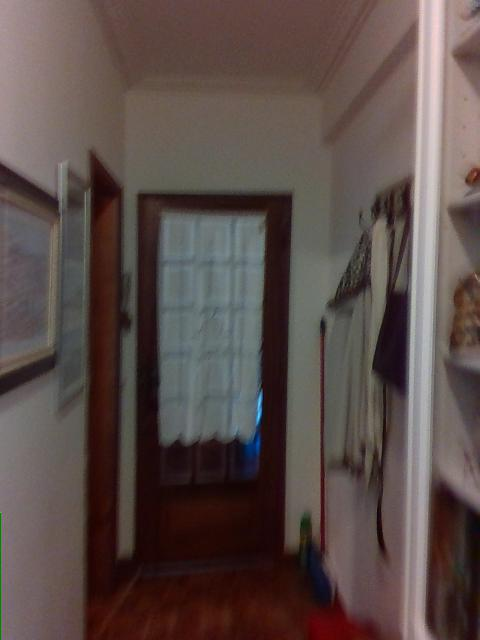door: (136, 192, 291, 552), (85, 148, 123, 629)
